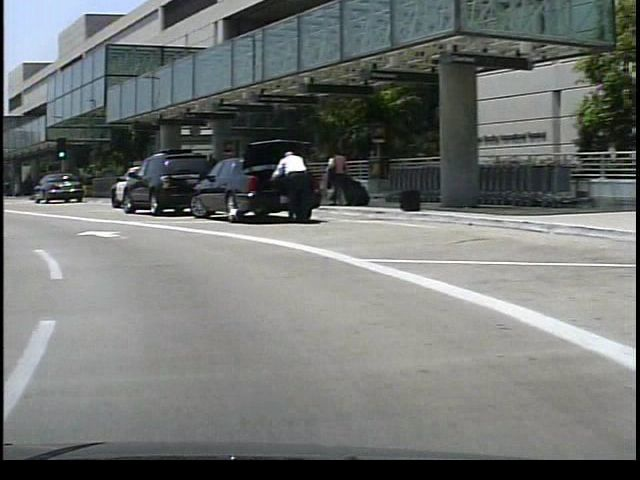person: (265, 148, 311, 229), (324, 147, 346, 210), (319, 146, 339, 211)
